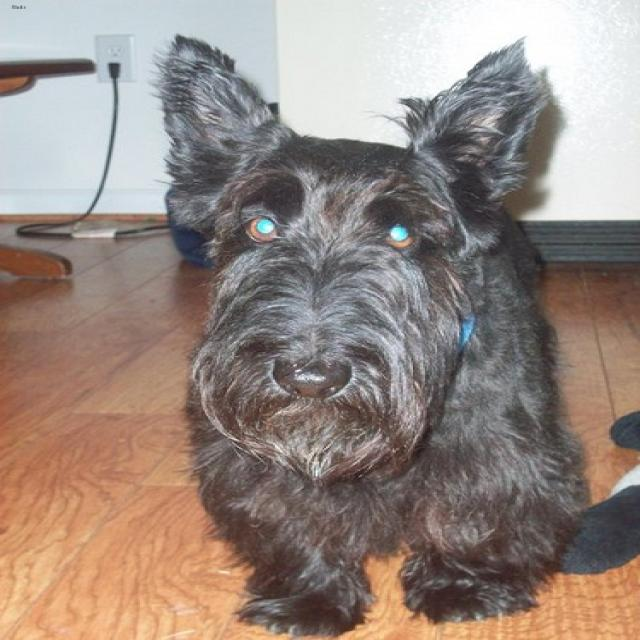dog-scottish_terrier: (148, 23, 599, 637)
